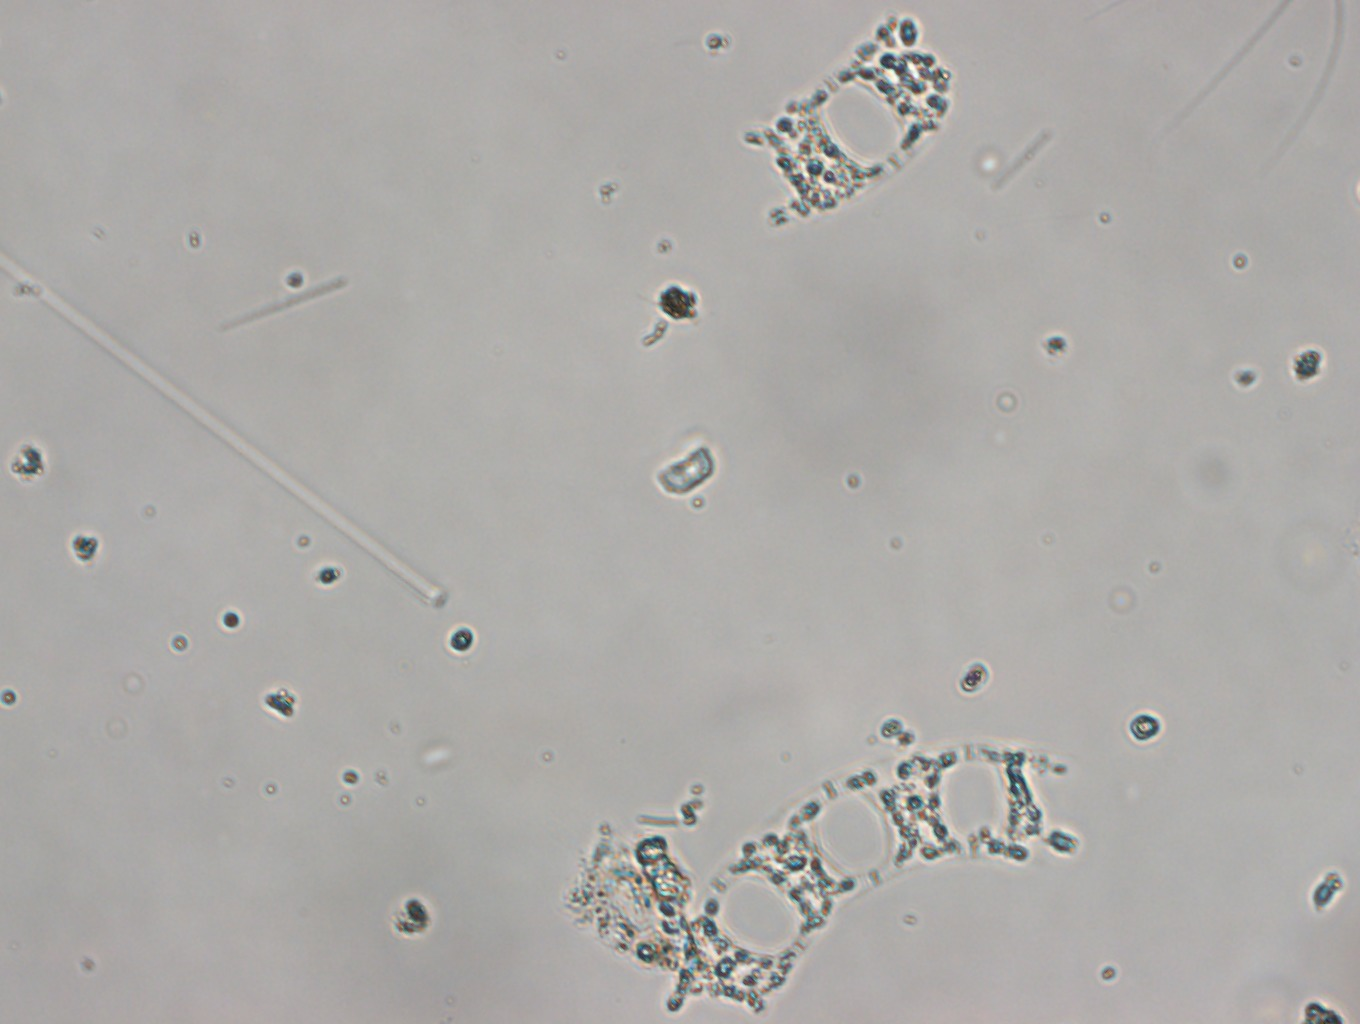eucampia: (671, 739, 1071, 1012), (739, 1, 958, 239)
